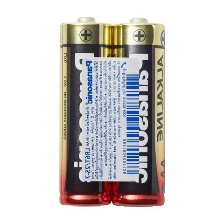battery: (55, 12, 118, 208), (108, 14, 168, 209)
